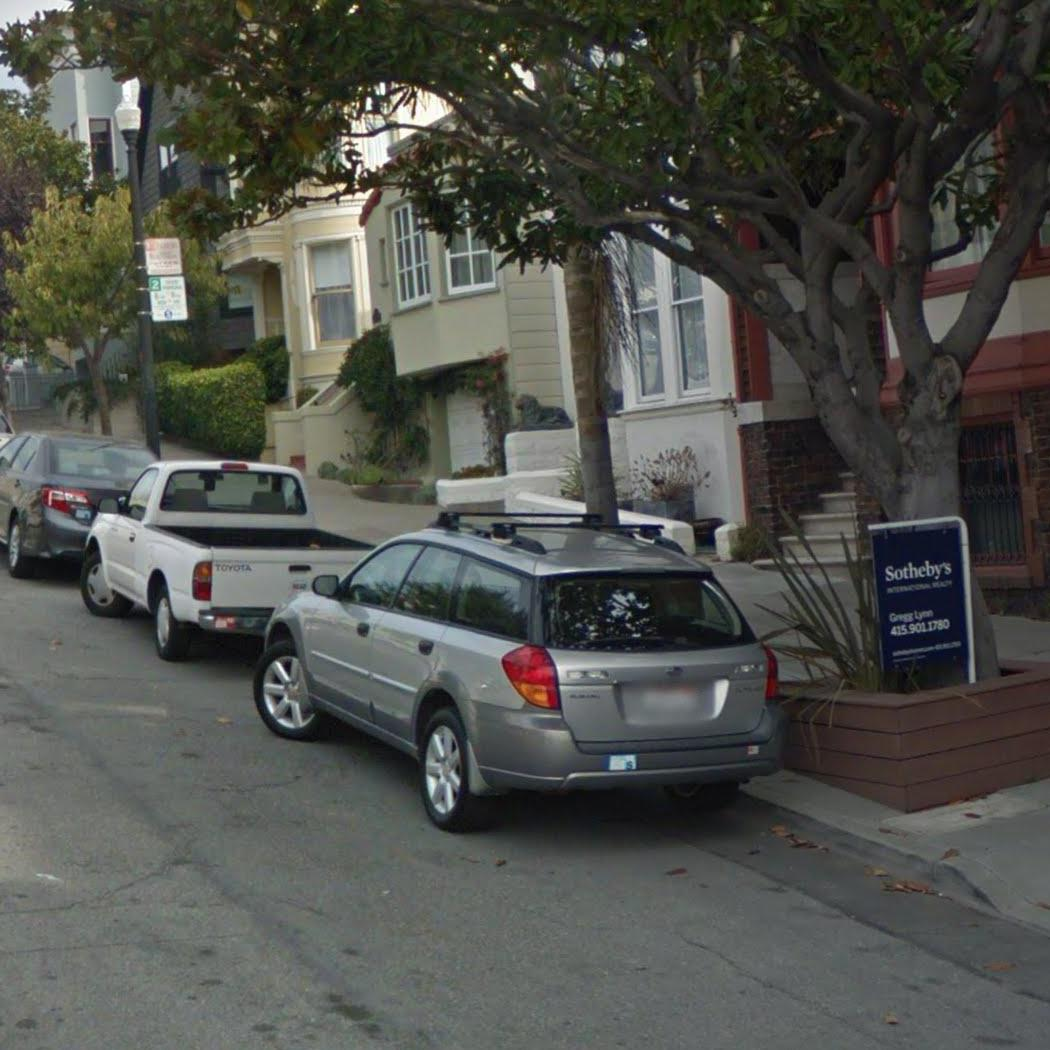2 Hour Parking: (146, 275, 190, 323)
No Parking: (142, 236, 185, 278)
